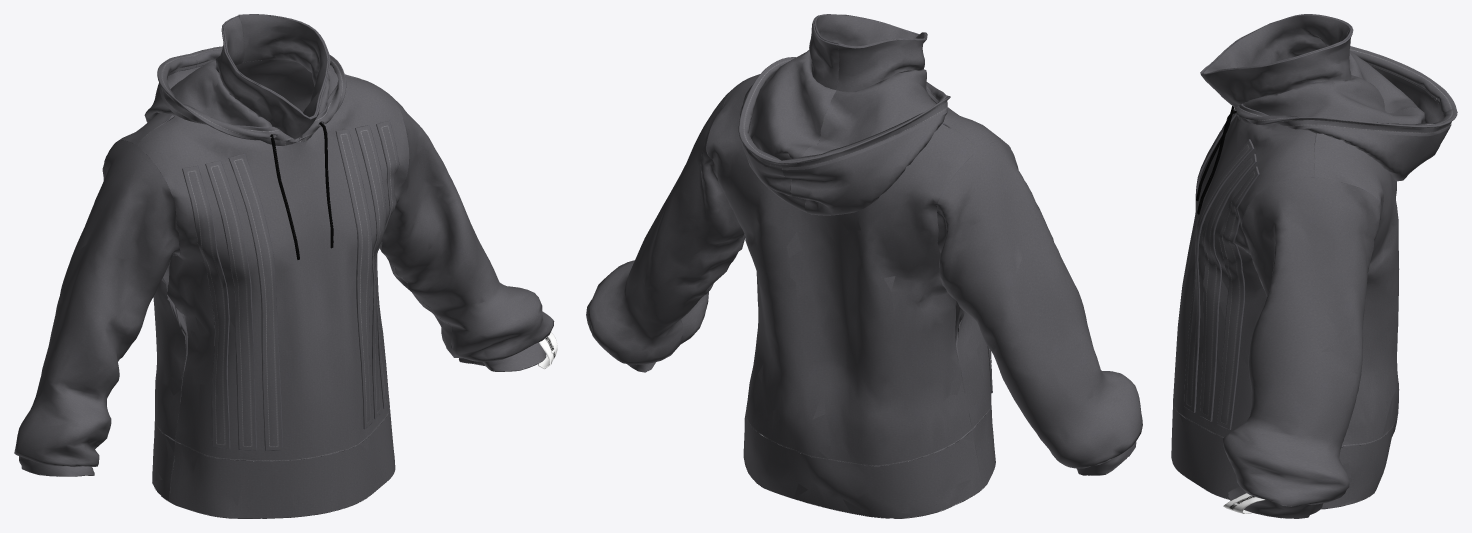
Rendered from hoodie-core-v3.glb.
The picture shows the model from 3 angles, left to right: view 1: azimuth 30°, elevation 25°; view 2: azimuth 150°, elevation 25°; view 3: azimuth 270°, elevation 25°; orthographic projection. The views are drawn at different scales.
Visible parts, largest first — view 1: Object_5; view 2: Object_5; view 3: Object_5.
Boxes of the visible parts, x1,y1,x2,y2 form: Object_5: (14, 14, 557, 518); Object_5: (586, 14, 1142, 518); Object_5: (1171, 14, 1457, 518).
Bounding box in the file's own units: 0.9847 × 0.7845 × 0.465.
1 material, 1 textured.
